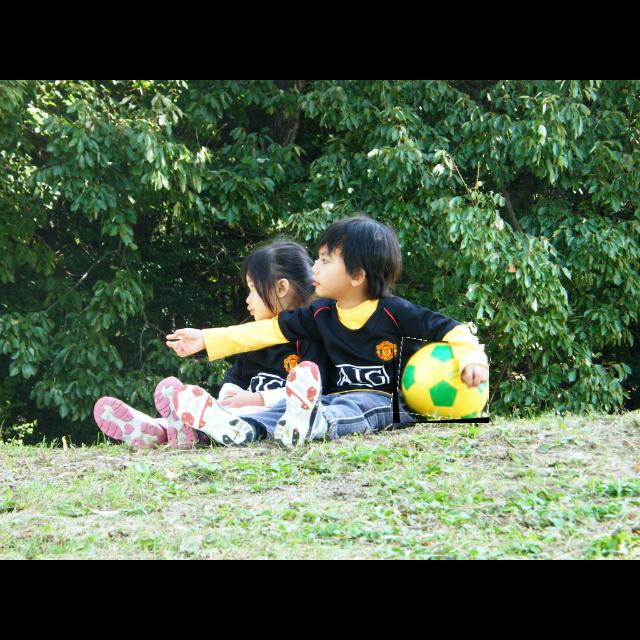Football: (393, 341, 489, 423)
